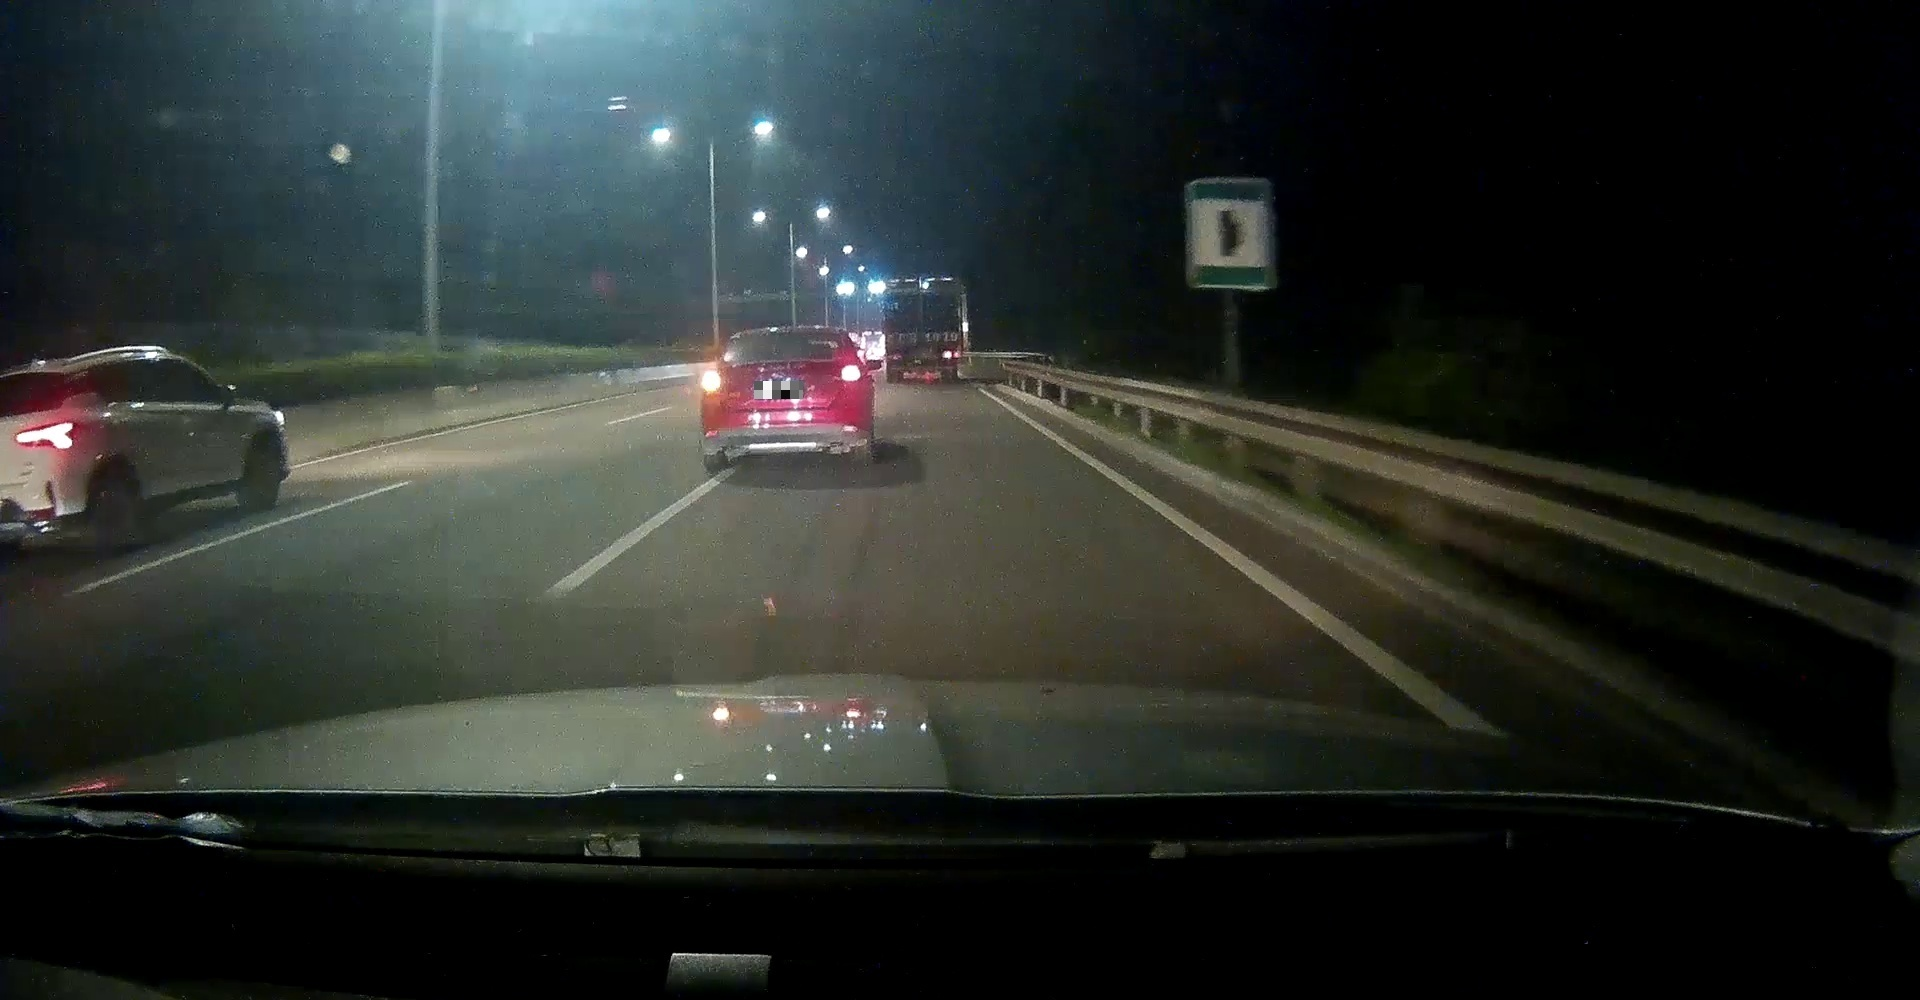L_light: (700, 369, 724, 392)
R_light: (841, 365, 863, 382)
T_light: (772, 332, 803, 338)
night-left: (697, 324, 872, 471)
plate_1: (754, 381, 803, 398)
